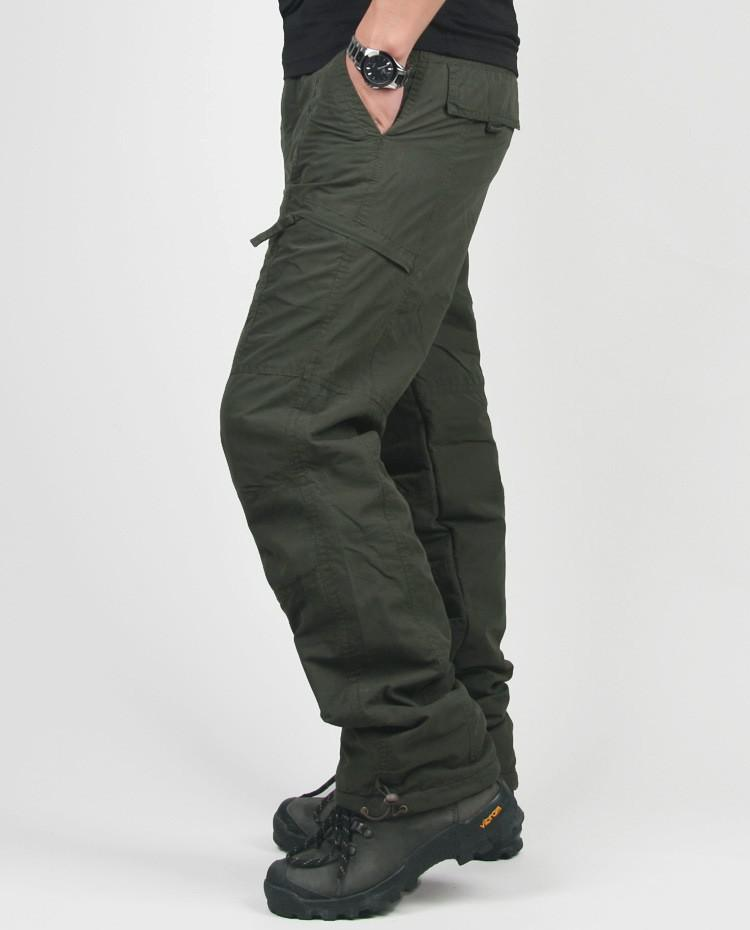pants: (235, 60, 517, 808)
